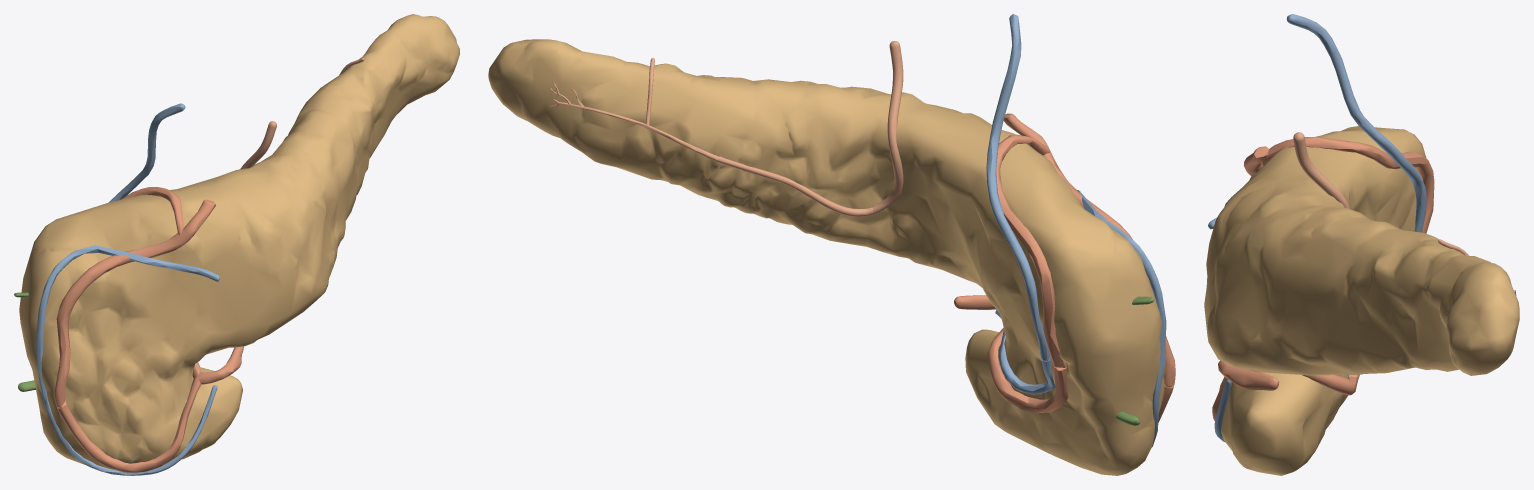
Rendered from pancreas.glb.
3 renders of one model, left to right at view 1: azimuth 30°, elevation 25°; view 2: azimuth 150°, elevation 25°; view 3: azimuth 270°, elevation 25°, orthographic. The views are drawn at different scales.
Visible parts, largest first — view 1: pancreas, pancreaticoduodenal-arteries, pancreaticoduodenal-veins, pancreatic-arteries; view 2: pancreas, pancreaticoduodenal-arteries, pancreaticoduodenal-veins, pancreatic-arteries; view 3: pancreas, pancreaticoduodenal-arteries, pancreaticoduodenal-veins, pancreatic-arteries.
Part boxes in pixels (x1,y1,x2,y2): pancreas: (19, 14, 459, 472); pancreaticoduodenal-arteries: (54, 187, 243, 472); pancreaticoduodenal-veins: (36, 103, 219, 475); pancreatic-arteries: (240, 58, 364, 169); pancreas: (488, 39, 1166, 475); pancreaticoduodenal-arteries: (954, 113, 1175, 422); pancreaticoduodenal-veins: (986, 14, 1166, 446); pancreatic-arteries: (549, 41, 903, 216); pancreas: (1204, 126, 1519, 475); pancreaticoduodenal-arteries: (1212, 137, 1434, 421); pancreaticoduodenal-veins: (1208, 14, 1426, 441); pancreatic-arteries: (1293, 132, 1516, 295).
Bounding box in the file's own units: 1.96 × 1.34 × 0.8155.
